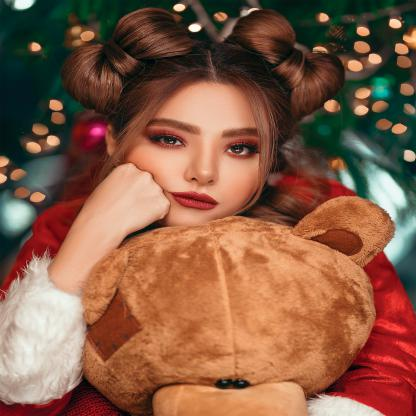Eye: (222, 140, 260, 160), (147, 133, 188, 150)
Mouth: (168, 190, 220, 211)
Nose: (184, 146, 219, 186)
